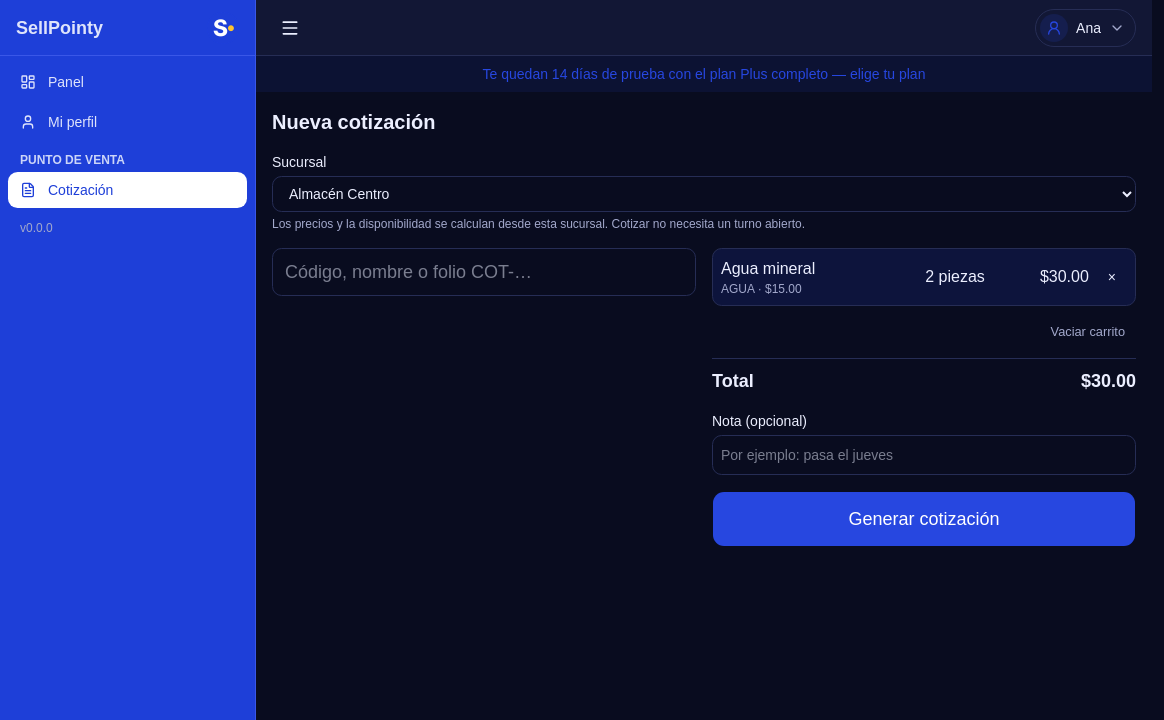
Cotización (F4-QUOTE-03 / F4-QUOTE-04) › armar una cotización (F4-QUOTE-03) › un rechazo del servidor se pinta, no deja el botón muerto
Expected: the element with test id "quote-builder" is shown, [272, 152, 1136, 547]
Click the button "Generar cotización": click(924, 519) [712, 491, 1136, 547]
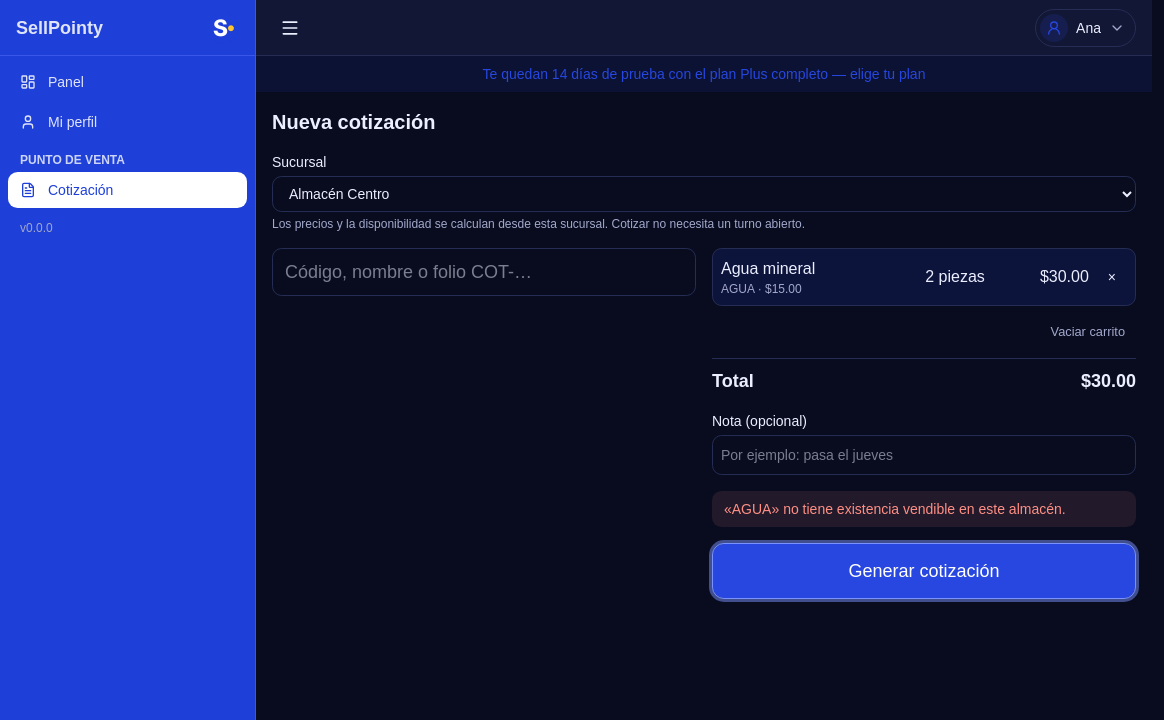
Expected: the text "«AGUA» no tiene existencia vendible en este almacén." is shown, [712, 491, 1136, 527]
